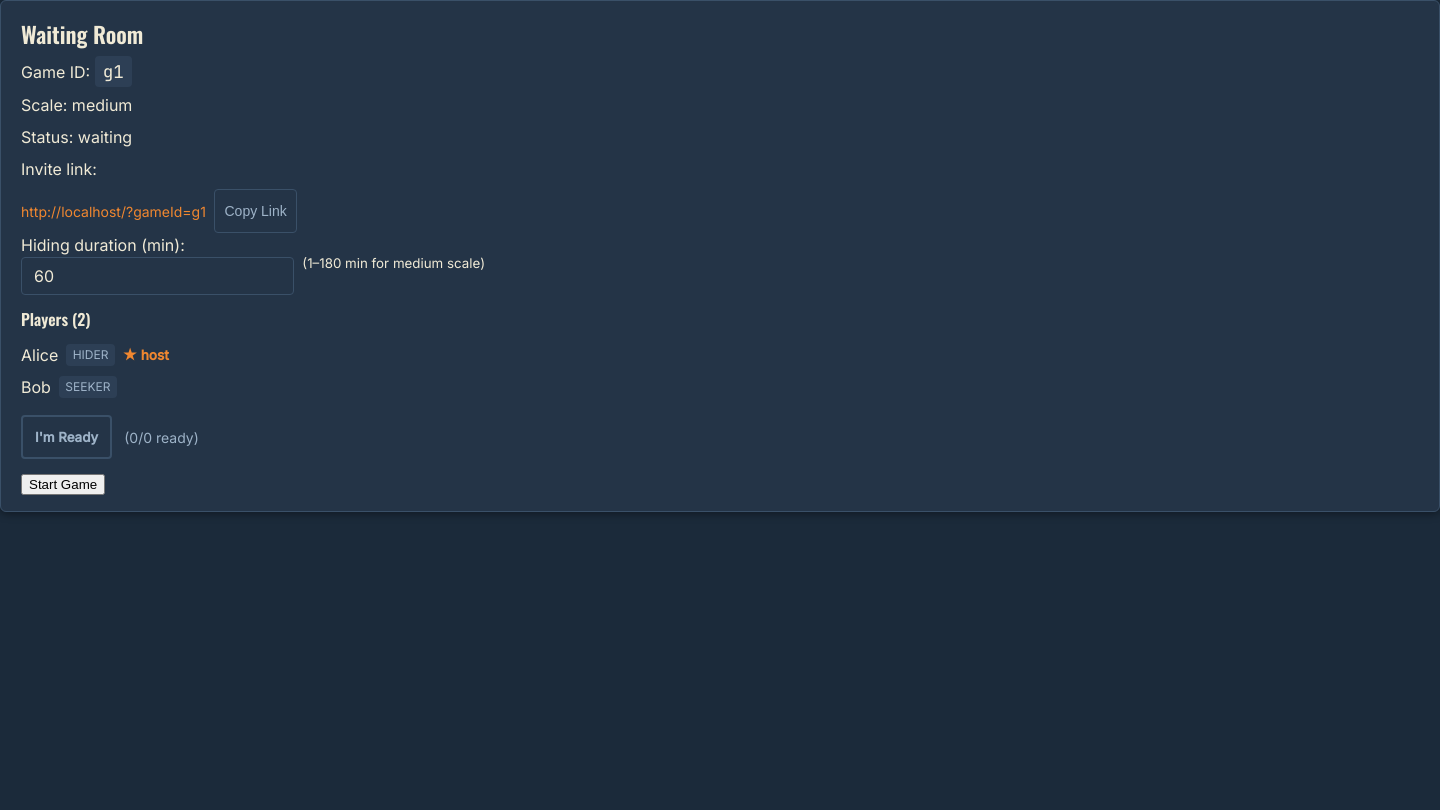
Scenario: WaitingRoom Start Game button › shows an error message when startGame rejects
Step 1. Click the button "Start Game" → (63, 484), box [21, 474, 105, 495]
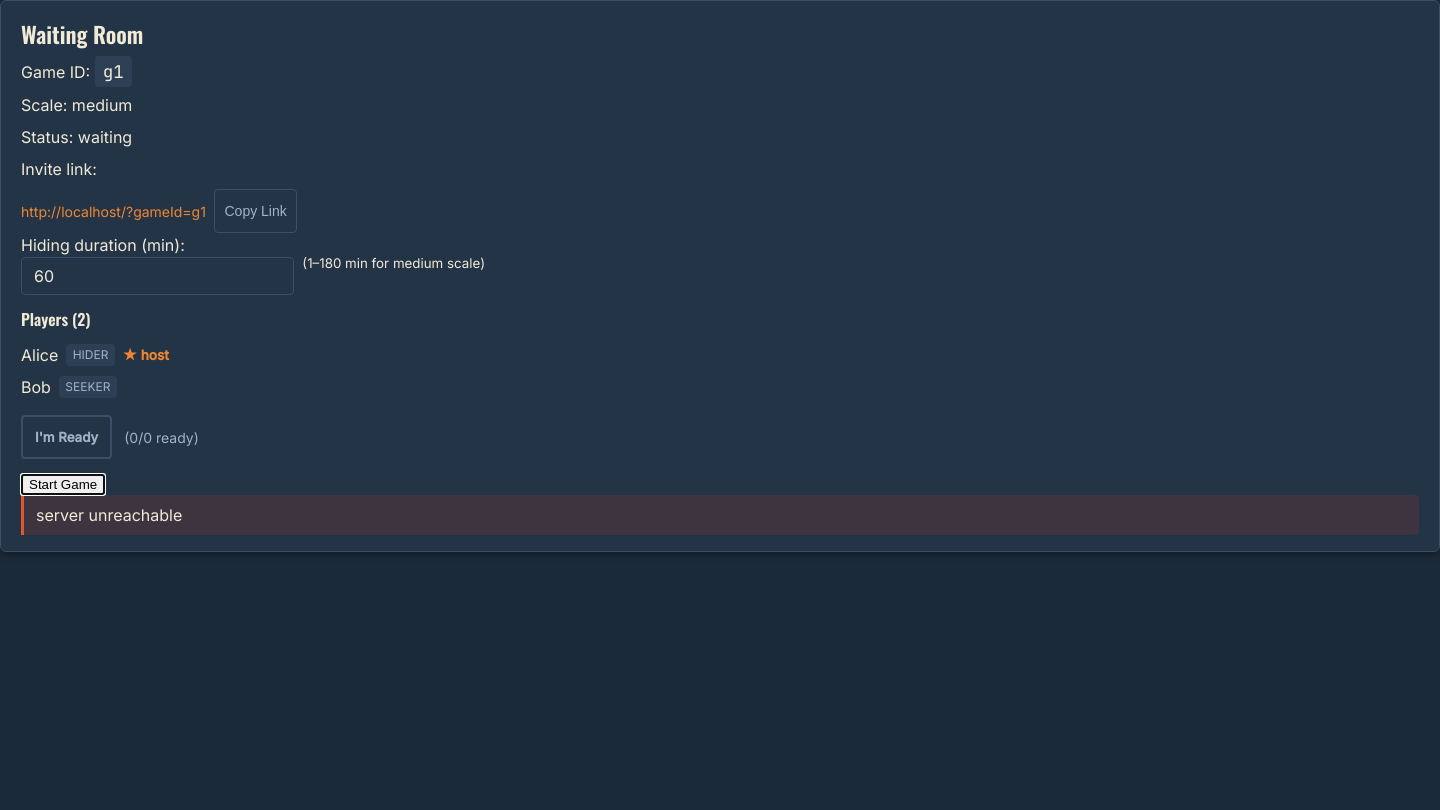
Check: the message reads "server unreachable", box [36, 505, 182, 525]
